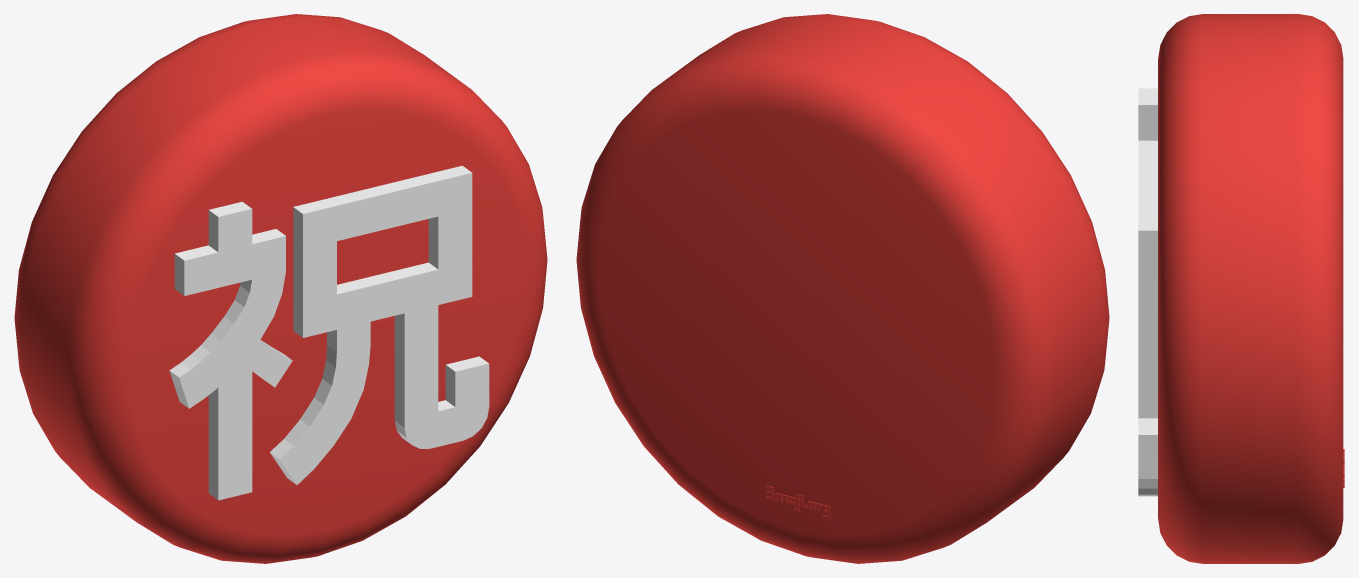
Rendered from japanese_congratulations_button.glb.
3 views of the same model, side by side, from view 1: azimuth 30°, elevation 25°; view 2: azimuth 150°, elevation 25°; view 3: azimuth 270°, elevation 25° (orthographic).
Visible parts, largest first — view 1: Circle.2651; view 2: Circle.2651; view 3: Circle.2651.
Boxes of the visible parts, <box> form: Circle.2651: <box>14,14,547,563</box>; Circle.2651: <box>576,14,1109,563</box>; Circle.2651: <box>1138,14,1344,563</box>.
Size of the model in its own units: 1.96 by 1.96 by 0.7337.
Materials: 1 (1 with a texture image).
